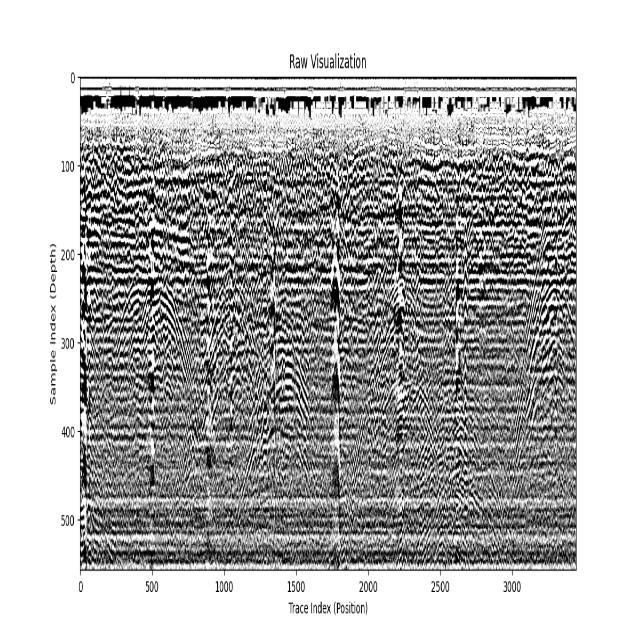anomaly: (492, 186, 576, 554), (167, 274, 270, 555), (346, 272, 445, 543), (231, 268, 323, 518), (112, 270, 197, 395), (413, 460, 503, 566), (331, 171, 342, 565), (81, 161, 91, 568), (456, 212, 467, 556), (145, 182, 155, 554), (397, 180, 403, 501), (206, 194, 211, 545)
